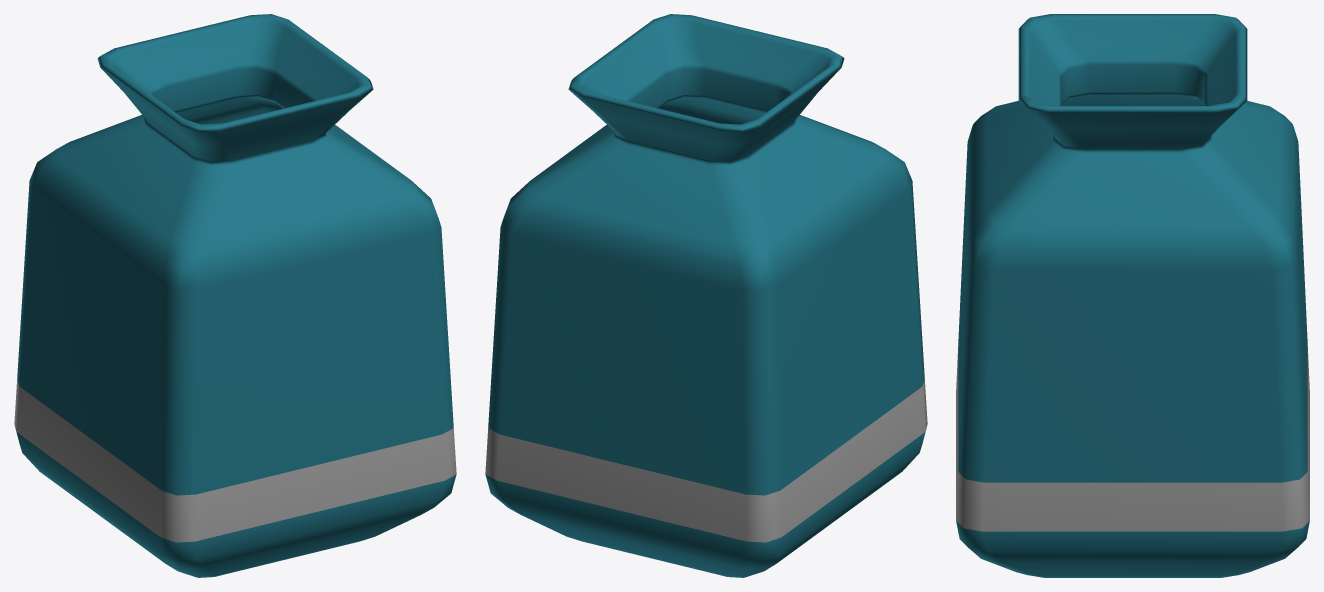
Rendered from MSH_int_Vase3.fbx.
The picture shows the model from 3 angles, left to right: view 1: azimuth 30°, elevation 25°; view 2: azimuth 150°, elevation 25°; view 3: azimuth 270°, elevation 25°; orthographic projection. The views are drawn at different scales.
Visible parts, largest first — view 1: Vase3; view 2: Vase3; view 3: Vase3.
Boxes of the visible parts, x1,y1,x2,y2 form: Vase3: (14,14,456,577); Vase3: (485,14,927,577); Vase3: (956,14,1309,577).
Size of the model in its own units: 1.72 by 2.55 by 1.72.
